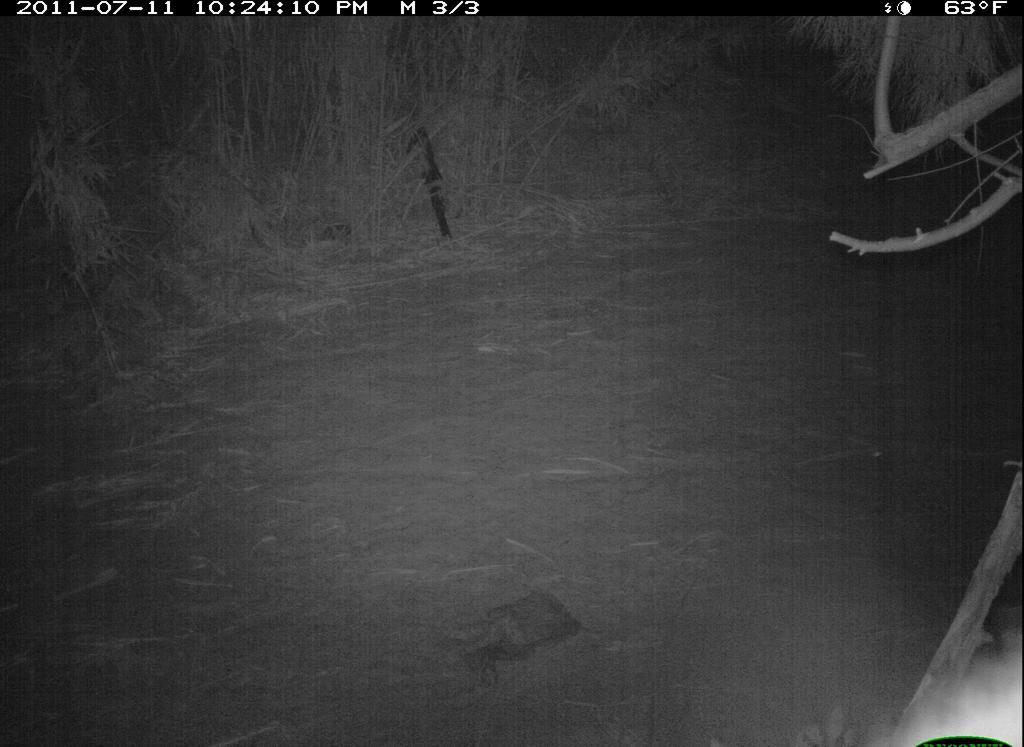raccoon: (861, 621, 1022, 747)
